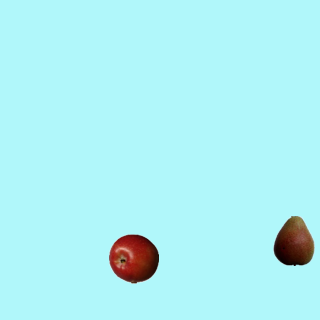Apple Braeburn: (108, 233, 158, 283)
Pear Forelle: (268, 215, 318, 265)
